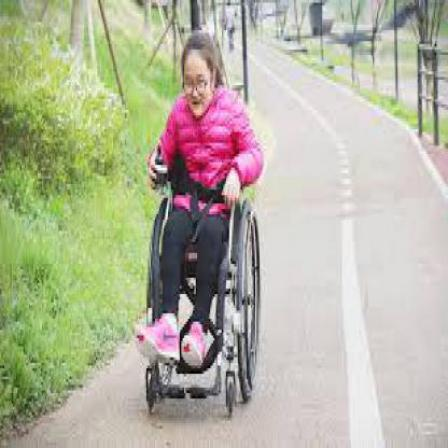wheel: (139, 28, 264, 420)
